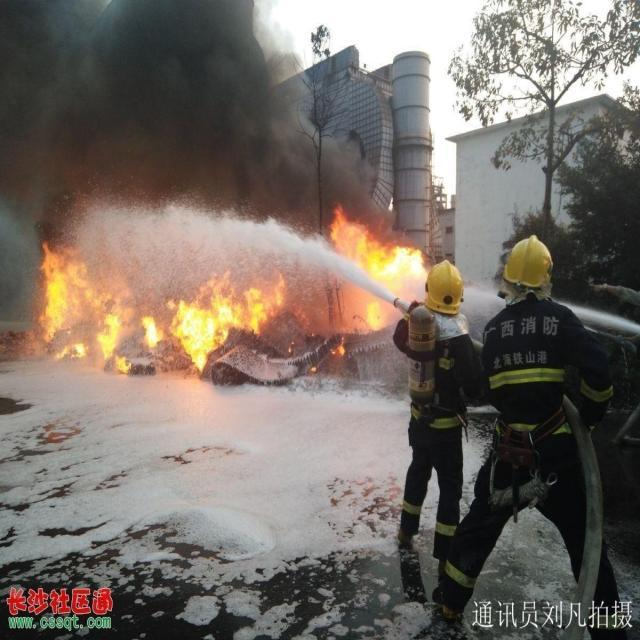Fire: (142, 268, 286, 371), (330, 205, 424, 357), (37, 241, 135, 374)
Smoke: (1, 1, 418, 252)
